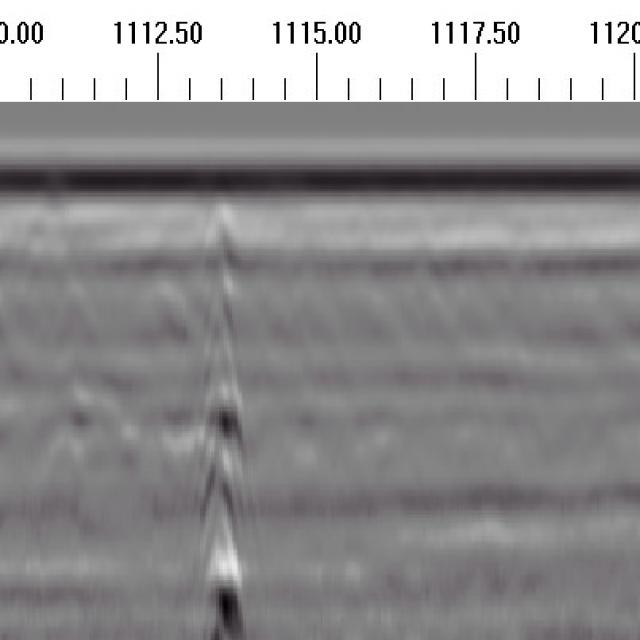crack: (193, 197, 249, 634)
